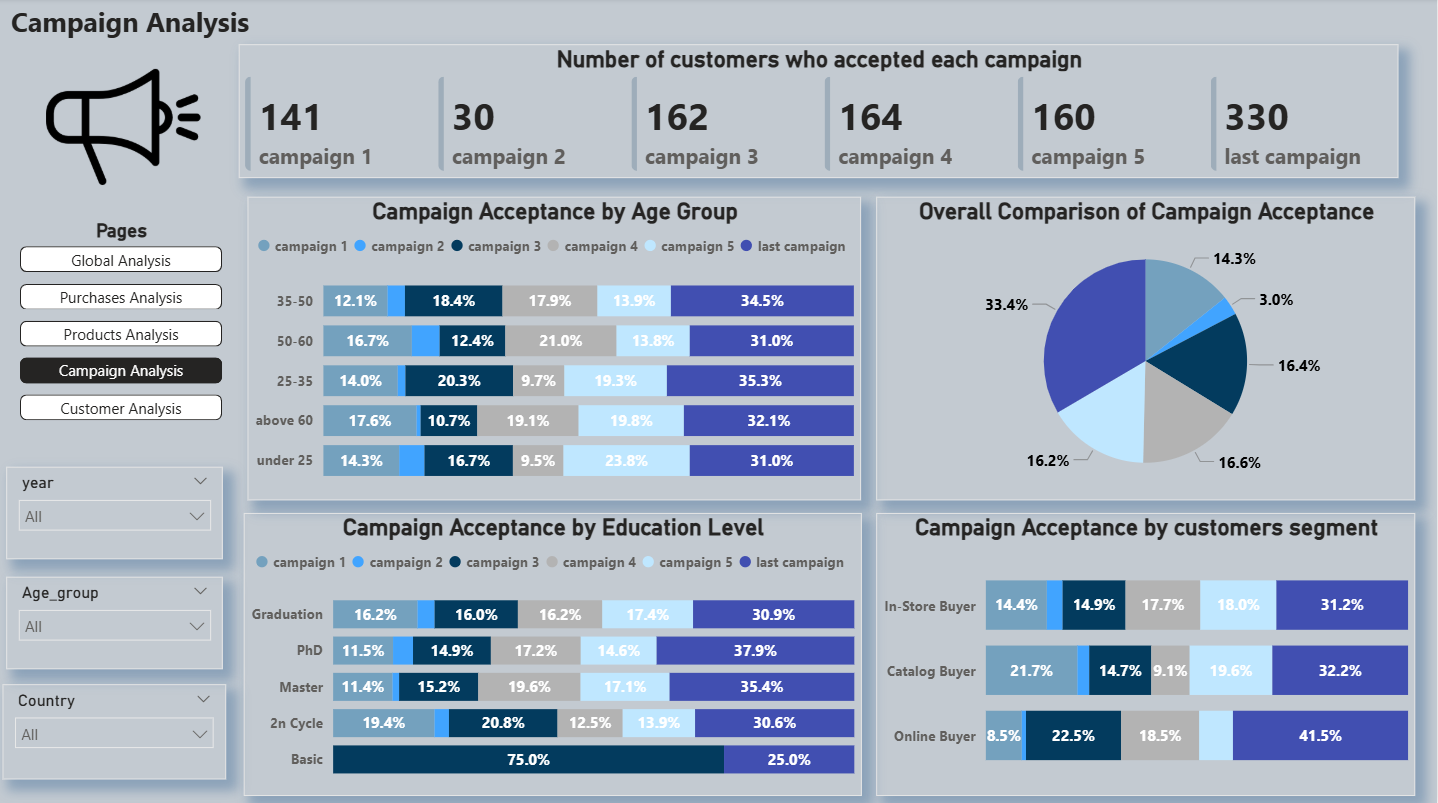

The dashboard page shown, as its layout file describes it:
{"tool":"powerbi","page":{"name":"Campaign Analysis","canvas":[1280,720],"ordinal":3},"visuals":[{"type":"pageNavigator","title":"Pages","box":[18.1,196.6,181,182.2],"z":0},{"type":"slicer","fields":{"Values":["DATA DIM.year"]},"box":[6,417.4,193,82],"z":1000},{"type":"slicer","fields":{"Values":["marketing_table.Age_group"]},"box":[6,515.2,193,82],"z":2000},{"type":"slicer","fields":{"Values":["marketing_table.Country"]},"box":[2.4,611.7,199.1,84.5],"z":3000},{"type":"textbox","box":[0,0,231.6,188.2],"z":4000},{"type":"image","box":[18.1,41,183.4,147.2],"z":5000},{"type":"cardVisual","title":"Number of customers who accepted each campaign","fields":{"Data":["dax masuers.Accepted campaign 1","dax masuers.Accepted campaign 2","dax masuers.Accepted campaign 3","dax masuers.Accepted campaign 4","dax masuers.Accepted campaign 5","dax masuers.Accepted last campaign"]},"box":[212.3,41,1032.7,119.4],"z":6000},{"type":"hundredPercentStackedBarChart","title":"Campaign Acceptance by Age Group","fields":{"Y":["dax masuers.Accepted campaign 1","dax masuers.Accepted campaign 2","dax masuers.Accepted campaign 3","dax masuers.Accepted campaign 4","dax masuers.Accepted campaign 5","dax masuers.Accepted last campaign"],"Category":["marketing_table.Age_group"]},"box":[220.8,177.3,546.5,270.2],"z":7000},{"type":"pieChart","title":"Overall Comparison of Campaign Acceptance","fields":{"Y":["dax masuers.Accepted campaign 1","dax masuers.Accepted campaign 2","dax masuers.Accepted campaign 3","dax masuers.Accepted campaign 4","dax masuers.Accepted campaign 5","dax masuers.Accepted last campaign"]},"box":[780.6,177.3,480.2,270.2],"z":8000},{"type":"hundredPercentStackedBarChart","title":"Campaign Acceptance by Education Level","fields":{"Y":["dax masuers.Accepted campaign 1","dax masuers.Accepted campaign 2","dax masuers.Accepted campaign 3","dax masuers.Accepted campaign 4","dax masuers.Accepted campaign 5","dax masuers.Accepted last campaign"],"Category":["marketing_table.Education"]},"box":[217.2,458.4,550.1,252.1],"z":9000},{"type":"hundredPercentStackedBarChart","title":"Campaign Acceptance by customers segment","fields":{"Y":["dax masuers.Accepted campaign 1","dax masuers.Accepted campaign 2","dax masuers.Accepted campaign 3","dax masuers.Accepted campaign 4","dax masuers.Accepted campaign 5","dax masuers.Accepted last campaign"],"Category":["Behavioral_Segmentation.PurchaseChannelSegment"]},"box":[780.6,458.4,480.2,252.1],"z":10000}]}

Visuals, with their boxes in screenshot pixels (x1, y1, x2, y2), scaled from the page's 1280x720 canvas onto the 1438x803 screenshot:
"Pages" pageNavigator: 20 219 224 422
slicer - DATA DIM.year: 7 466 224 557
slicer - marketing_table.Age_group: 7 575 224 666
slicer - marketing_table.Country: 3 682 226 776
textbox: 0 0 260 210
image: 20 46 226 210
"Number of customers who accepted each campaign" cardVisual: 239 46 1399 179
"Campaign Acceptance by Age Group" hundredPercentStackedBarChart: 248 198 862 499
"Overall Comparison of Campaign Acceptance" pieChart: 877 198 1416 499
"Campaign Acceptance by Education Level" hundredPercentStackedBarChart: 244 511 862 792
"Campaign Acceptance by customers segment" hundredPercentStackedBarChart: 877 511 1416 792
